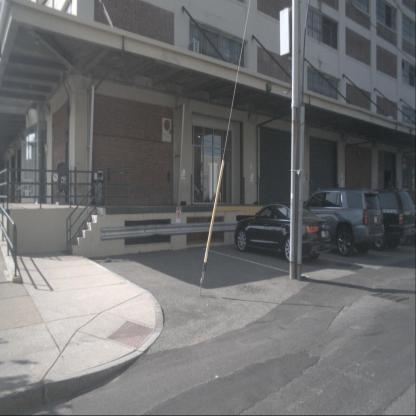vehicle-car: (290, 187, 385, 257), (234, 201, 332, 264), (338, 187, 416, 253)
